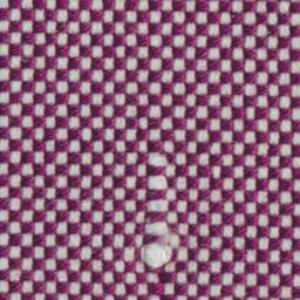defect: (139, 136, 171, 300)
